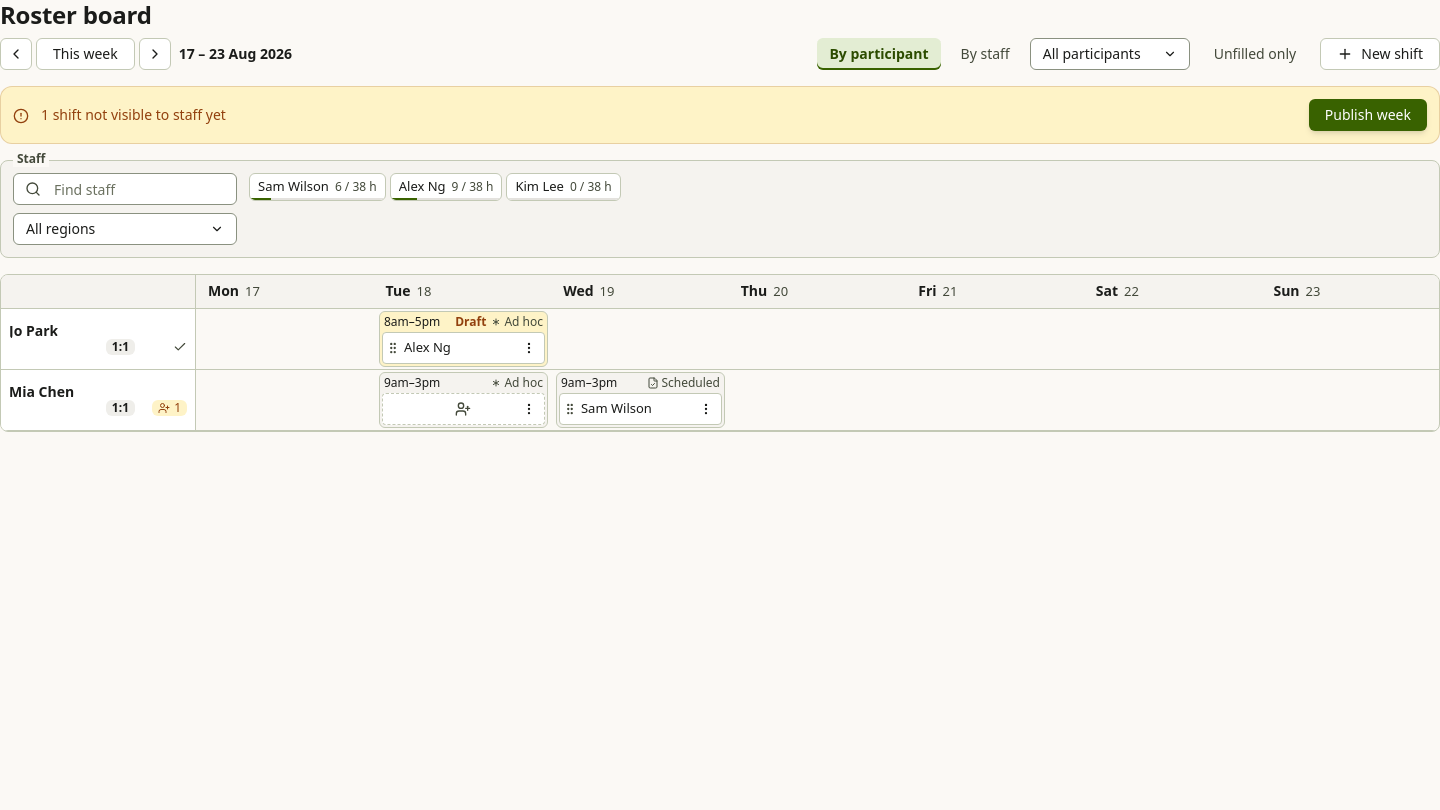
it: the board-changed 409 offers Refresh the board (real QueryClient) › refetches the shown week, clears the notice, says so once, and puts focus on the week heading
Expected: the element showing "9am–3pm Scheduled Sam Wilson" is shown, x1=556 y1=372 x2=725 y2=428
What coordinates should you click on to do the following:
click the button named "Assign someone to Tuesday 9am to 3pm for Mia"
I would click on:
 (450, 408)
Its box is x1=382 y1=392 x2=517 y2=424.
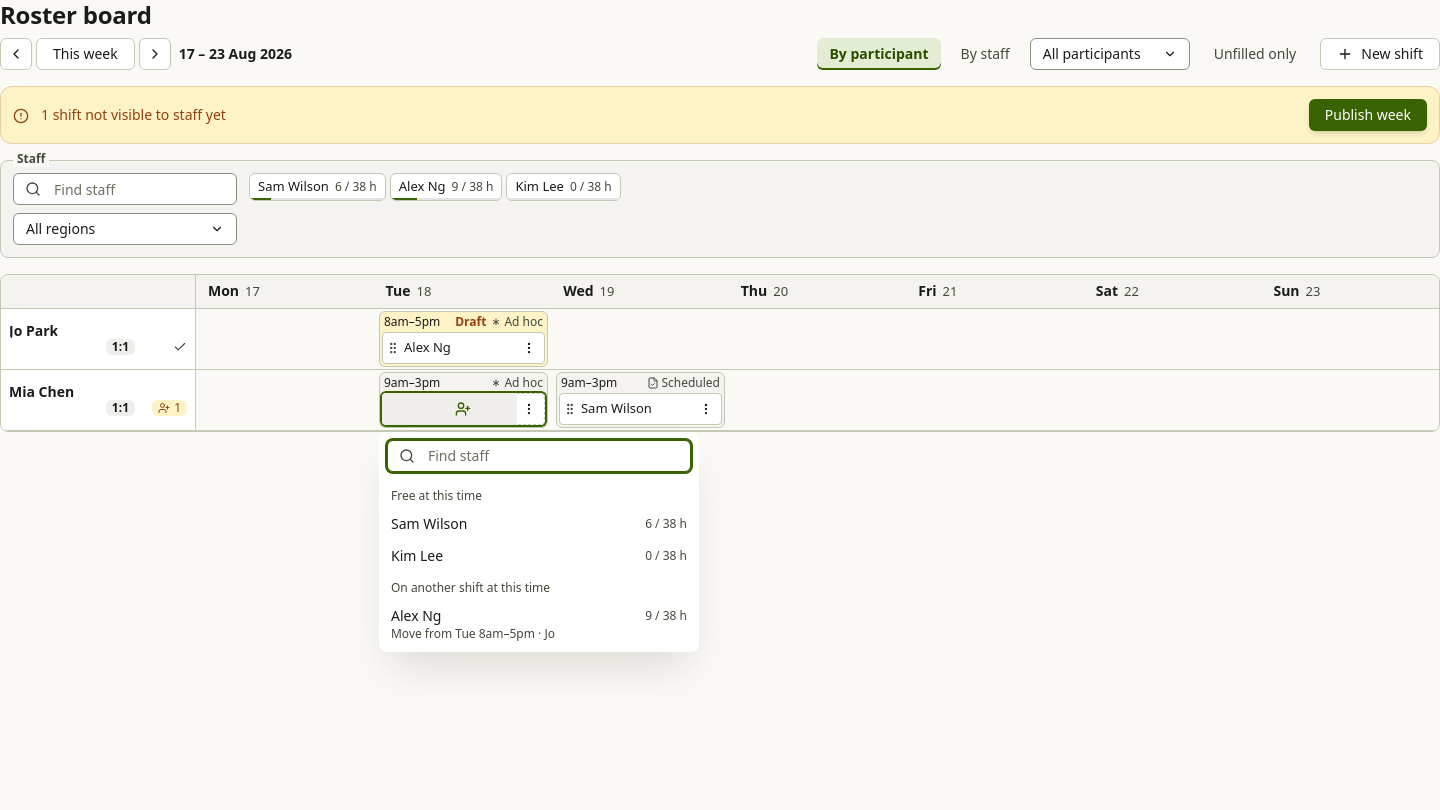
What coordinates should you click on to do the following:
click the option "Kim Lee 0 / 38 h"
I would click on:
 (417, 555)
Its box is x1=391 y1=546 x2=687 y2=564.
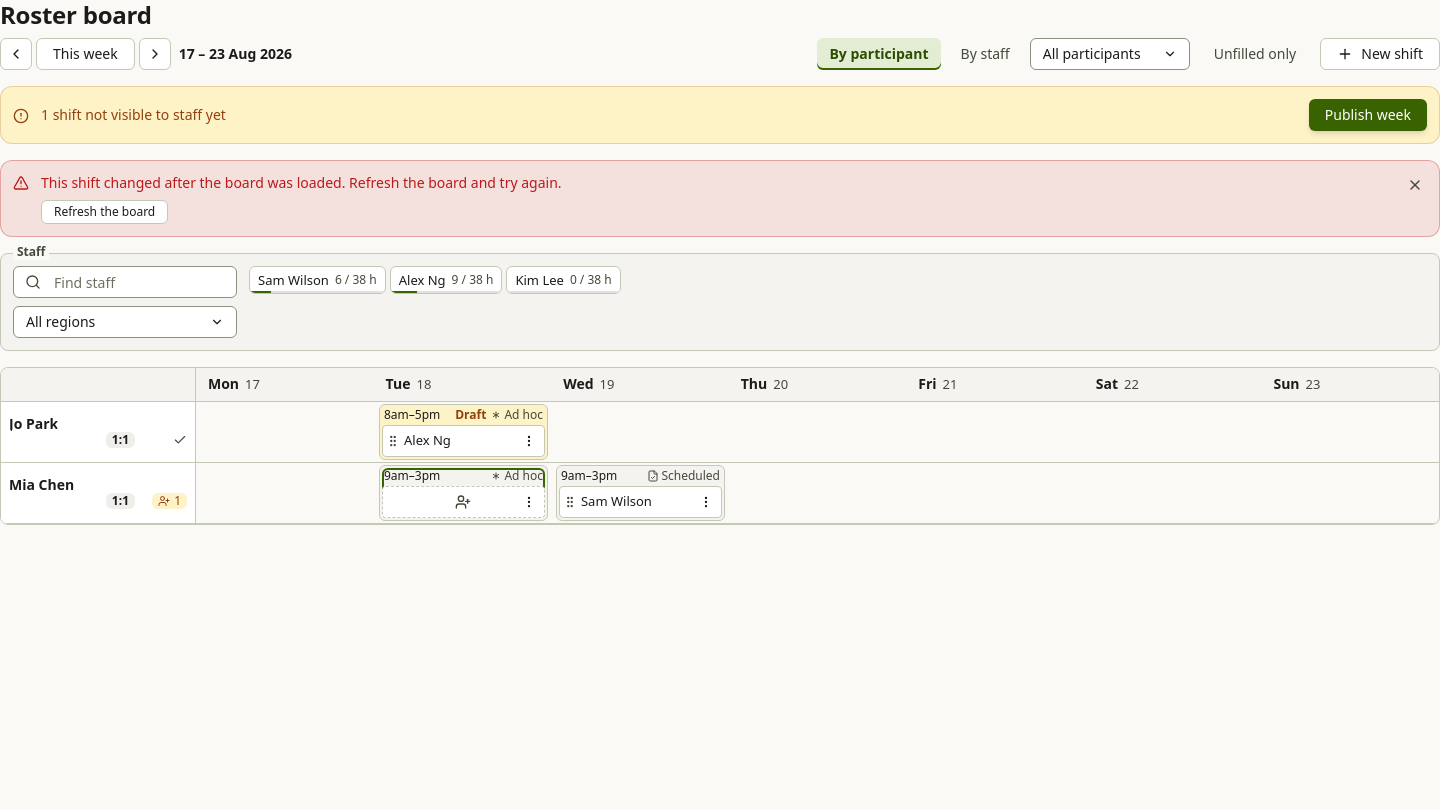
Expected: the text "This shift changed after the board was loaded. Refresh the board and try again." is shown, x1=41 y1=173 x2=562 y2=192
What coordinates should you click on to do the following:
click the button "Refresh the board"
I would click on:
 (105, 212)
Its box is x1=41 y1=200 x2=168 y2=224.
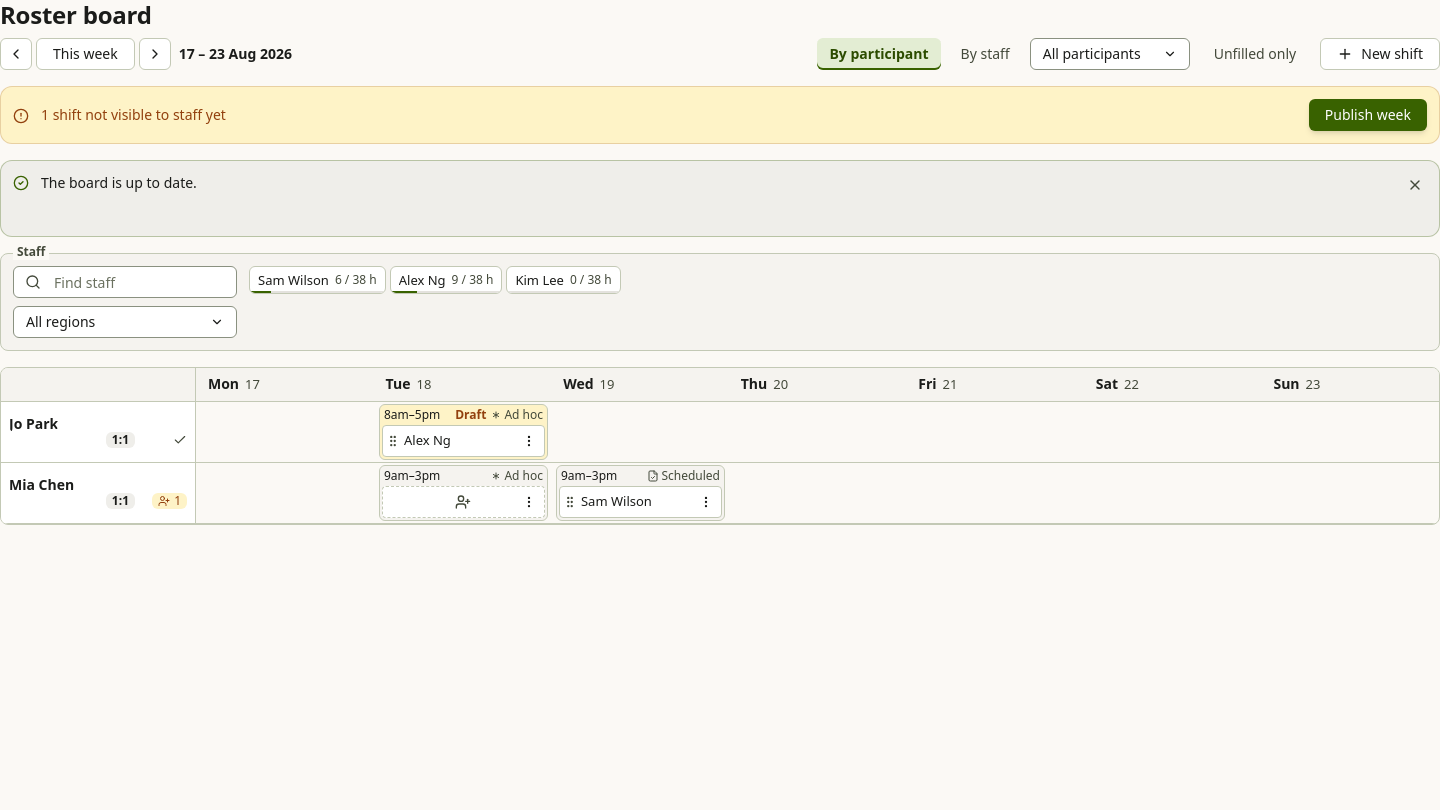
Expected: the text "The board is up to date." is shown 2 times
Expected: the text "This shift changed after the board was loaded. Refresh the board and try again." is gone
